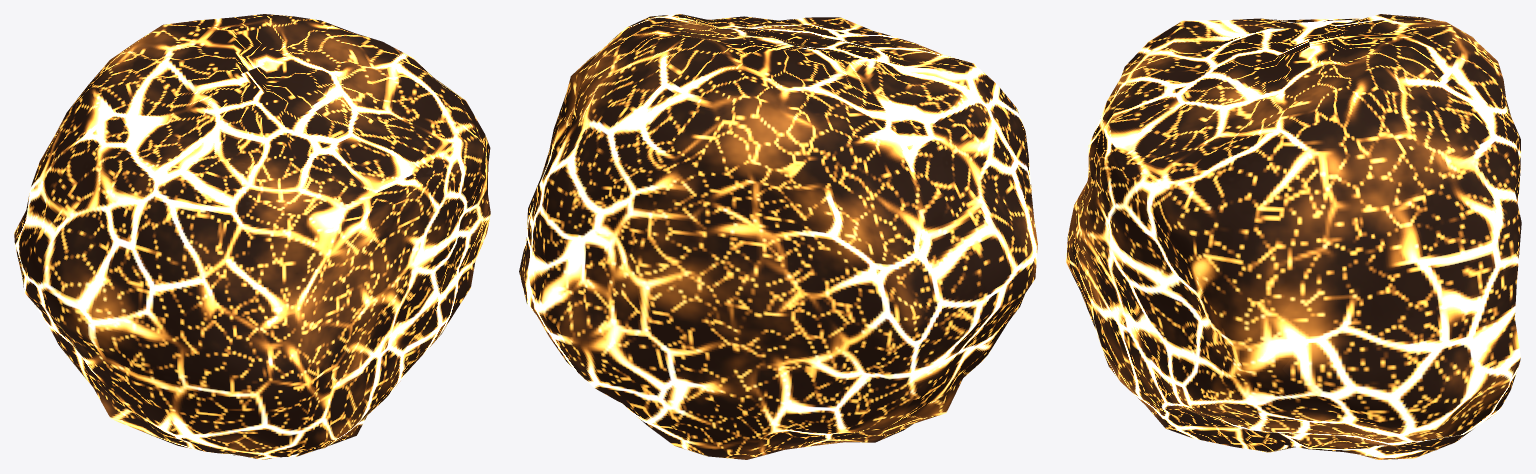
The model's file is rock_hot_fire.glb.
3 views of the same model, side by side, from view 1: azimuth 30°, elevation 25°; view 2: azimuth 150°, elevation 25°; view 3: azimuth 270°, elevation 25° (orthographic). The views are drawn at different scales.
Parts seen in each view (by area): view 1: rock; view 2: rock; view 3: rock.
Part boxes in pixels (bbox=[...]): rock: bbox=[14, 14, 490, 459]; rock: bbox=[519, 14, 1037, 459]; rock: bbox=[1066, 14, 1521, 459].
Size of the model in its own units: 2.04 by 1.74 by 1.71.
1 material, 1 textured.
